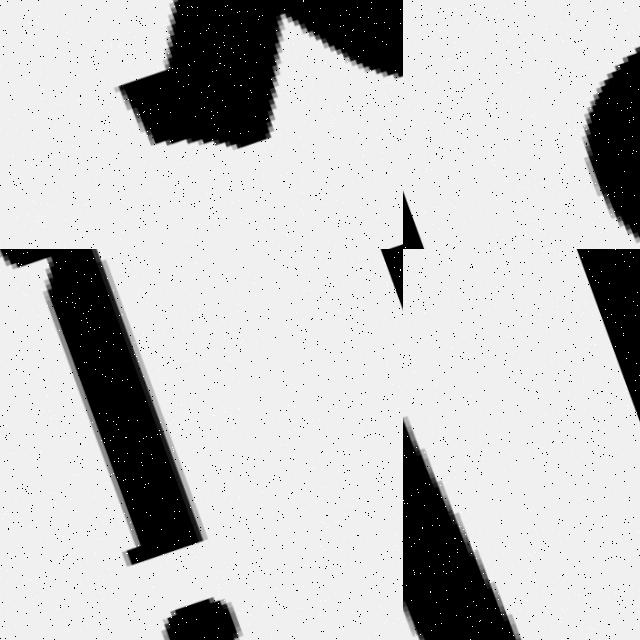J: (0, 249, 273, 640)
Q: (403, 249, 595, 640)
S: (403, 0, 640, 249)
X: (0, 0, 403, 236)
